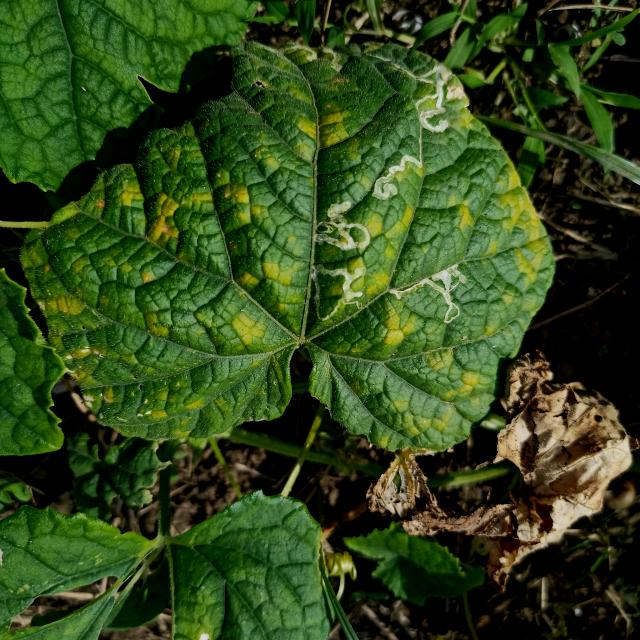disease_cucumber: (58, 55, 542, 434)
